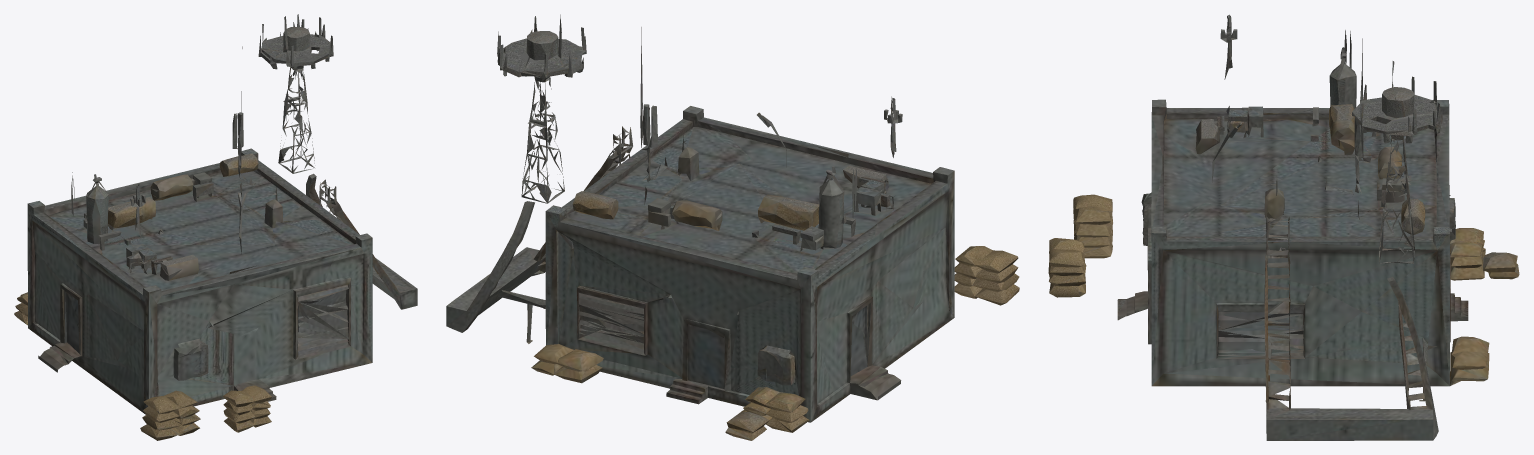
The model's file is p_bunker.glb.
3 views of the same model, side by side, from view 1: azimuth 30°, elevation 25°; view 2: azimuth 150°, elevation 25°; view 3: azimuth 270°, elevation 25° (orthographic). The views are drawn at different scales.
Parts seen in each view (by area): view 1: mesh_0; view 2: mesh_0; view 3: mesh_0.
Boxes of the visible parts, x1,y1,x2,y2 form: mesh_0: [14, 14, 417, 440]; mesh_0: [446, 14, 1019, 440]; mesh_0: [1048, 14, 1519, 440].
Size of the model in its own units: 1.9 by 1.46 by 1.86.
1 material, 1 textured.
